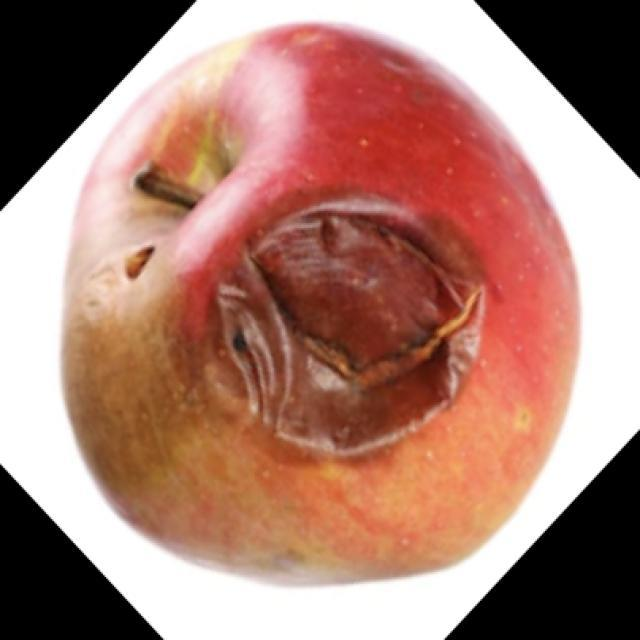Rotten: (73, 22, 582, 580)
